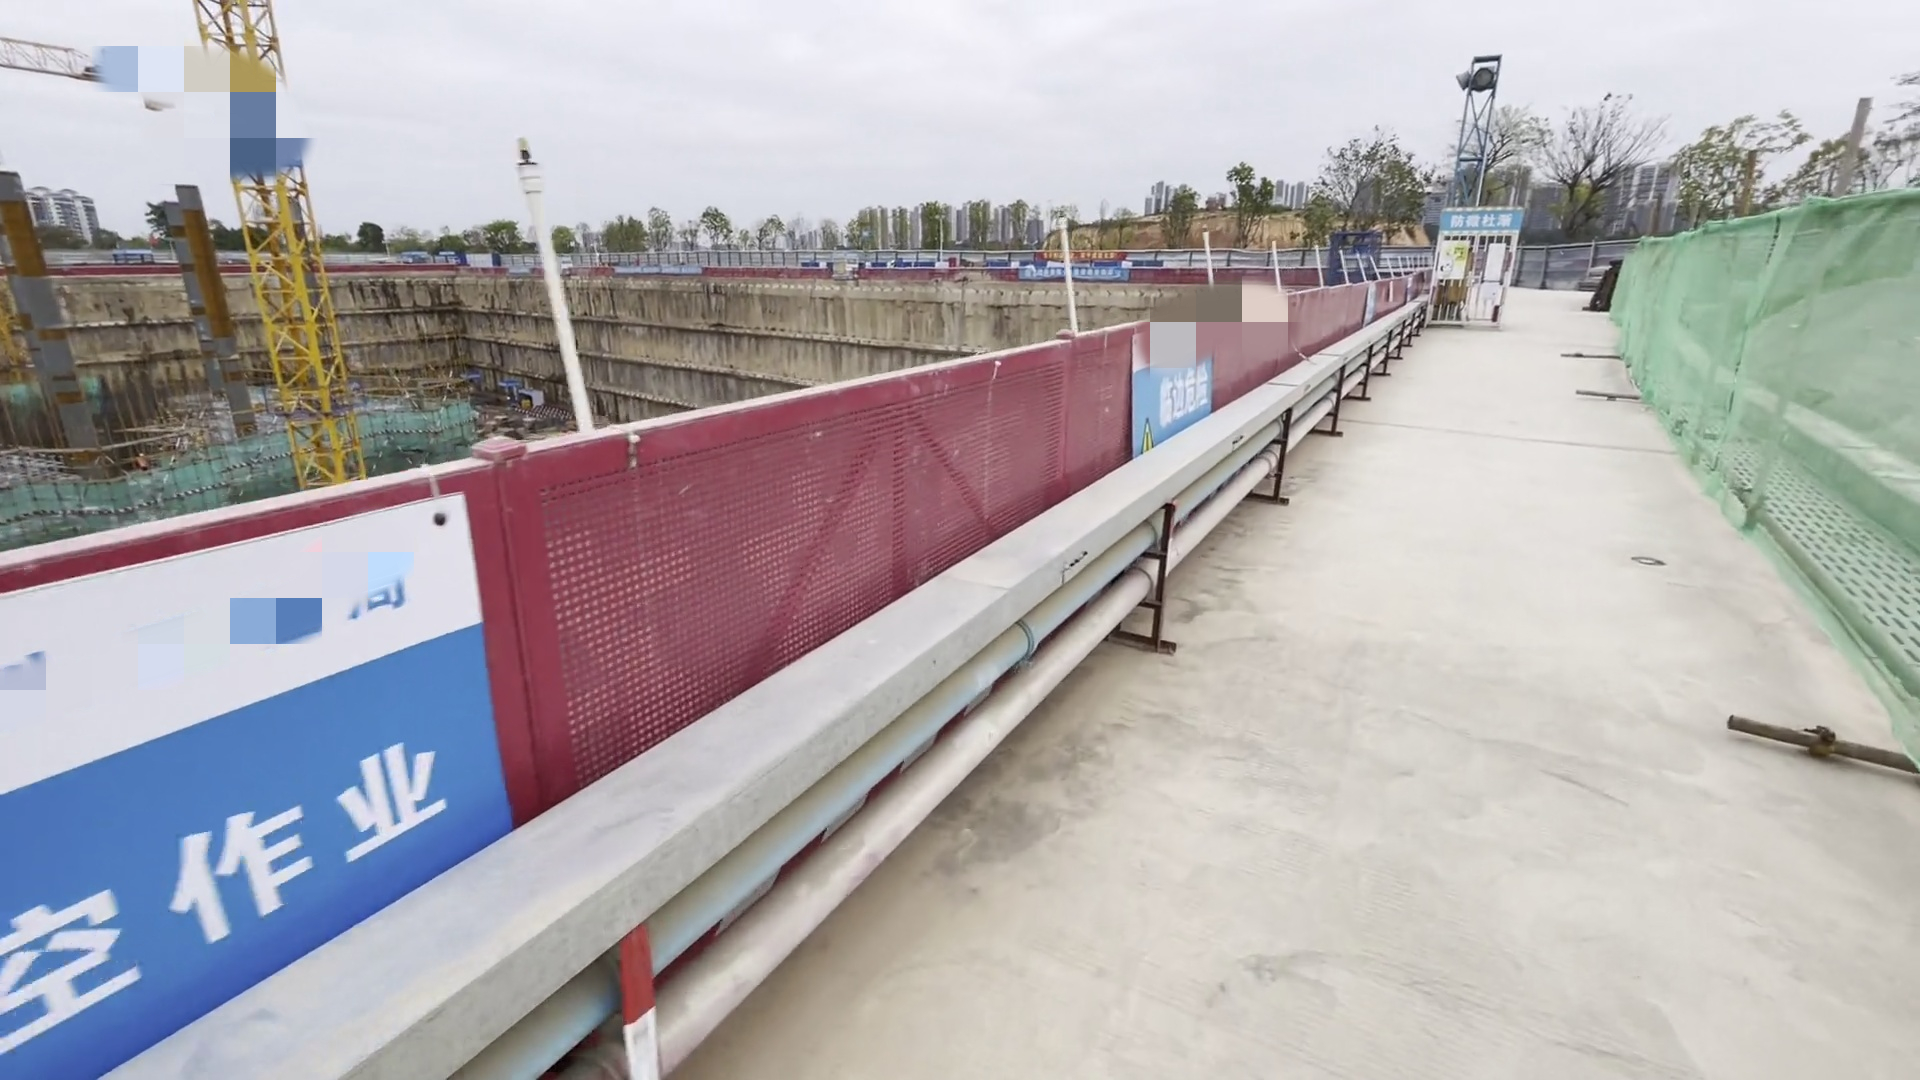fence: (1, 280, 1416, 1080)
slogan: (7, 735, 527, 1005), (1145, 367, 1232, 422), (1022, 244, 1124, 287), (1451, 200, 1519, 237)
